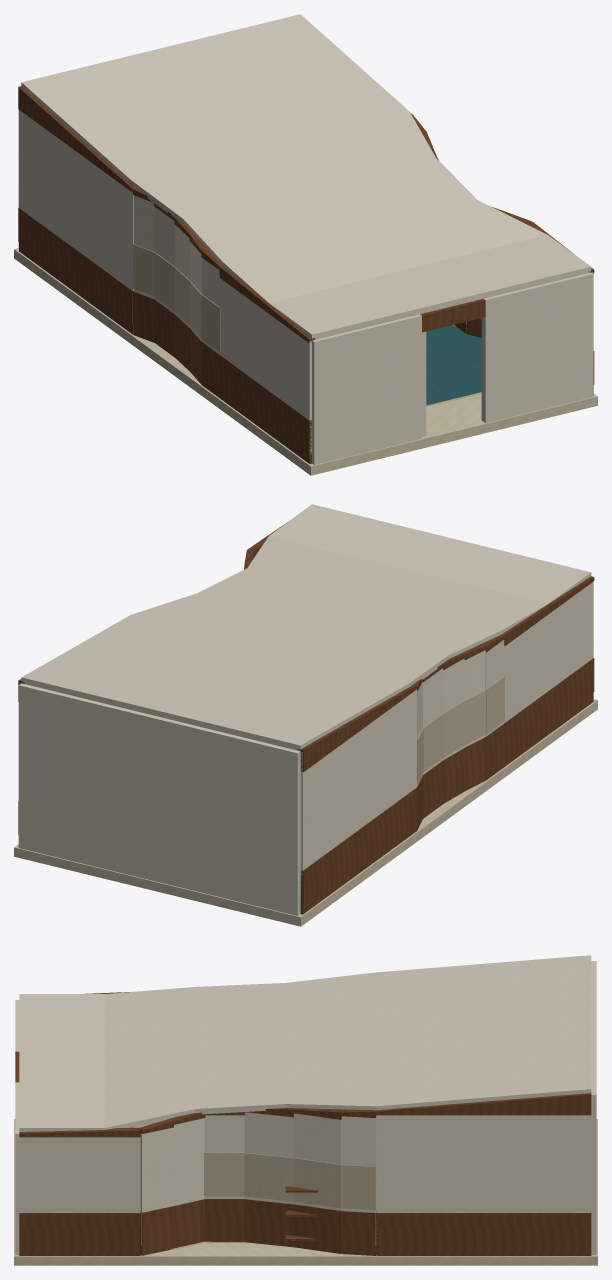
Rendered from shell.glb.
3 views of the same model, one above another, from view 1: azimuth 30°, elevation 25°; view 2: azimuth 150°, elevation 25°; view 3: azimuth 270°, elevation 25° (orthographic).
Visible parts, largest first — view 1: SUI_Runtime_ivory_enamel, SUI_Runtime_warm_walnut, SUI_Runtime_warm_stone, SUI_Runtime_oatmeal_weave, SUI_Runtime_teal_weave; view 2: SUI_Runtime_ivory_enamel, SUI_Runtime_warm_walnut, SUI_Runtime_warm_stone, SUI_Runtime_oatmeal_weave; view 3: SUI_Runtime_ivory_enamel, SUI_Runtime_warm_walnut, SUI_Runtime_warm_stone, SUI_Runtime_oatmeal_weave.
Boxes of the visible parts, x1=… form: SUI_Runtime_ivory_enamel: x1=18, y1=14, x2=593, y2=464; SUI_Runtime_warm_walnut: x1=18, y1=86, x2=594, y2=463; SUI_Runtime_warm_stone: x1=14, y1=248, x2=597, y2=475; SUI_Runtime_oatmeal_weave: x1=133, y1=244, x2=481, y2=406; SUI_Runtime_teal_weave: x1=426, y1=325, x2=481, y2=405; SUI_Runtime_ivory_enamel: x1=18, y1=504, x2=593, y2=915; SUI_Runtime_warm_walnut: x1=18, y1=522, x2=594, y2=914; SUI_Runtime_warm_stone: x1=14, y1=699, x2=597, y2=926; SUI_Runtime_oatmeal_weave: x1=417, y1=676, x2=504, y2=784; SUI_Runtime_ivory_enamel: x1=15, y1=955, x2=596, y2=1254; SUI_Runtime_warm_walnut: x1=15, y1=992, x2=591, y2=1255; SUI_Runtime_warm_stone: x1=14, y1=1119, x2=597, y2=1265; SUI_Runtime_oatmeal_weave: x1=170, y1=1152, x2=375, y2=1249.
Size of the model in its own units: 7.2 by 4.26 by 12.9.
Materials: 7 (6 with a texture image).
